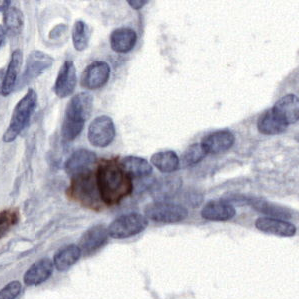Lymphocyte: (94, 158, 131, 204)
